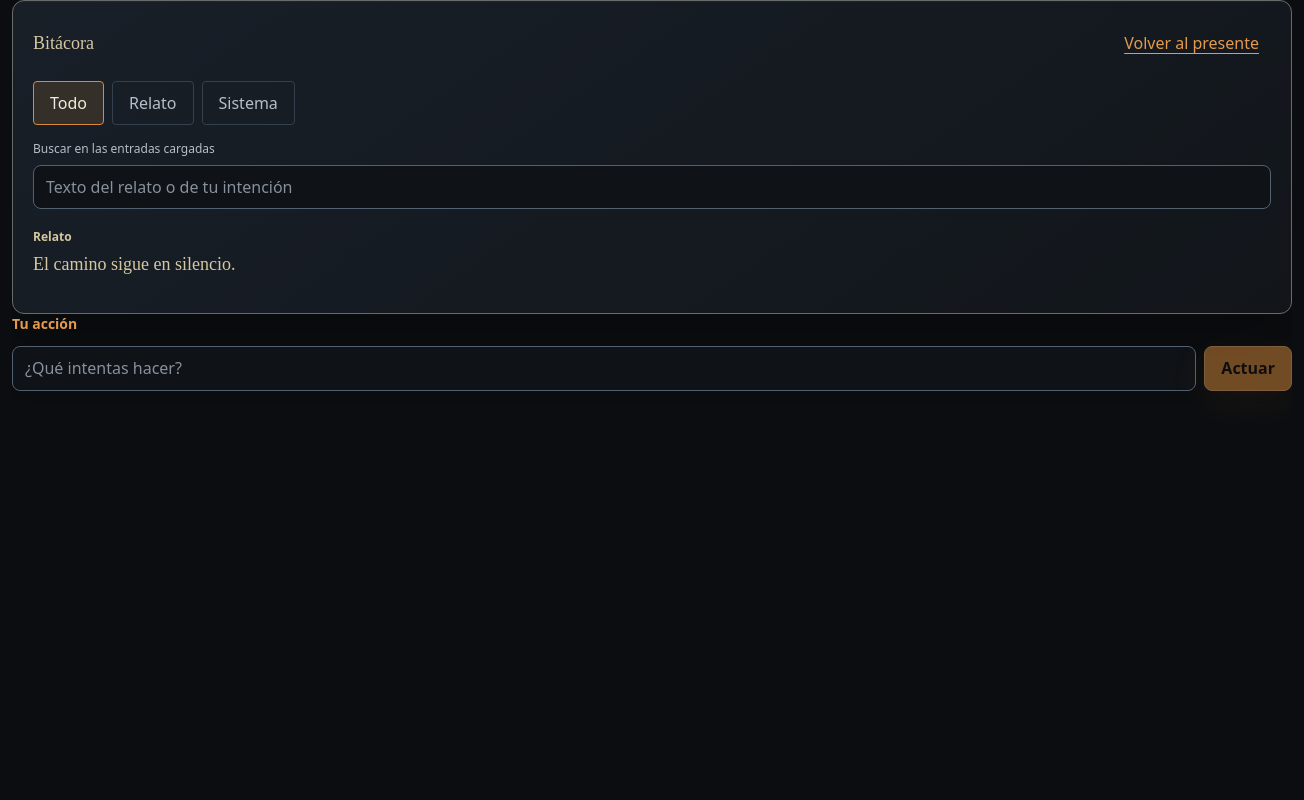
campaign story through the real action stream › does not mistake an old identical narrative for the response to the current action
Step 1. Type "Miro el camino" into the field labelled "Tu acción" → (604, 368), box [12,346,1196,391]
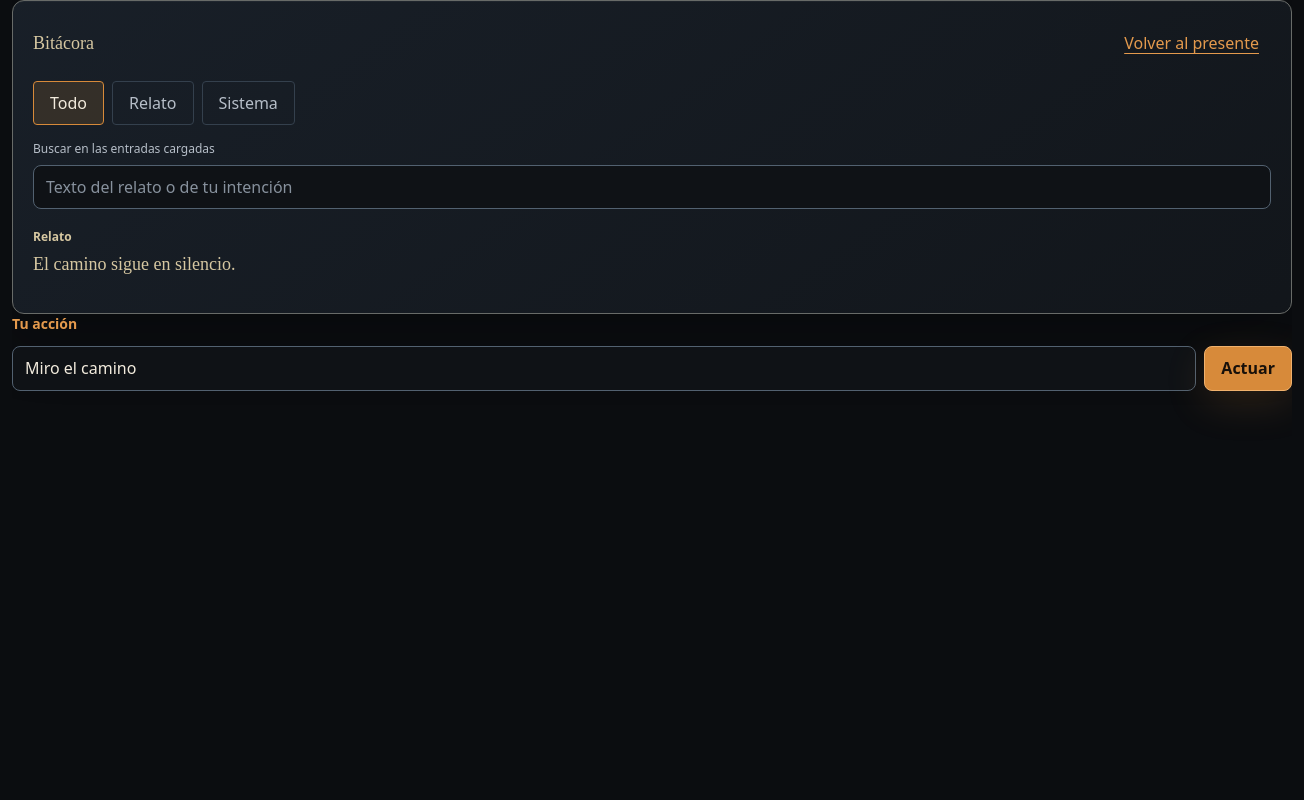
Step 2. Click the button "Actuar" → (1248, 368), box [1204,346,1292,391]
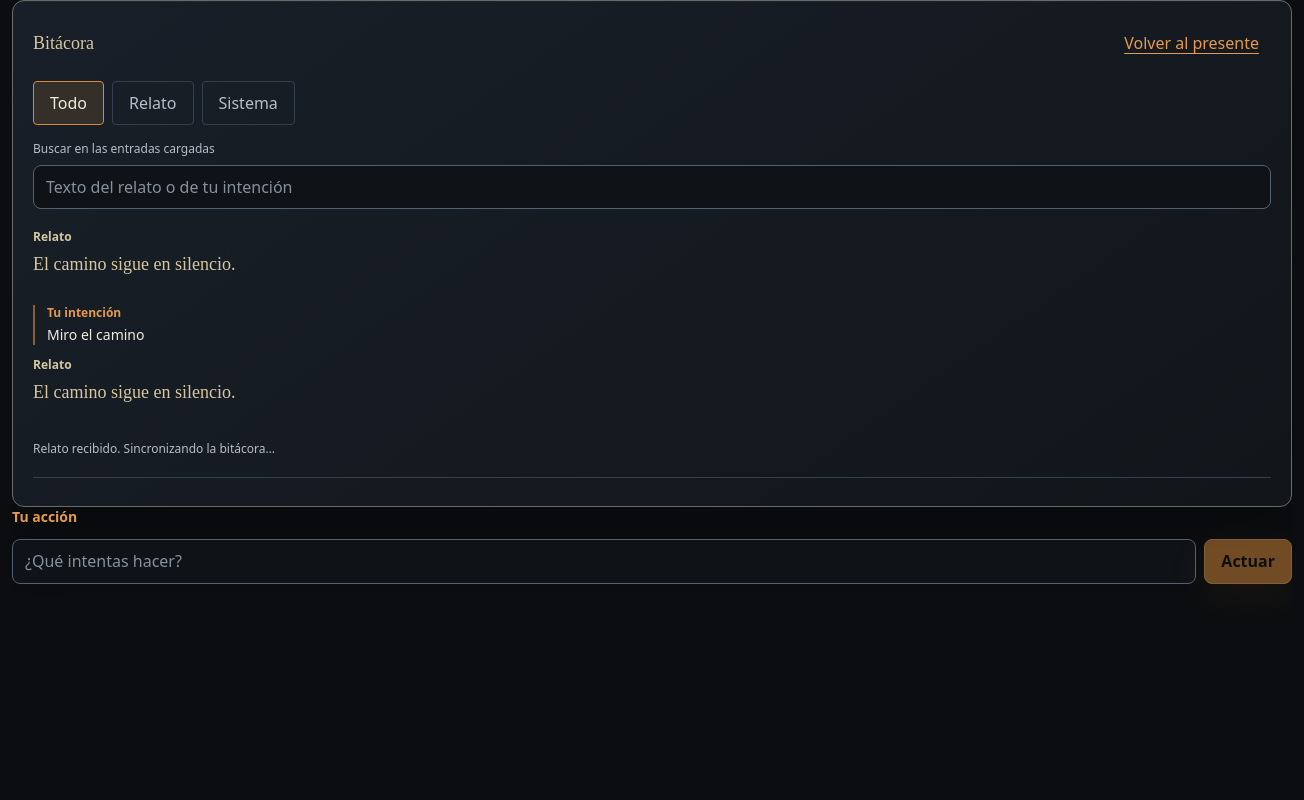
Check: the text "El camino sigue en silencio." is shown 2 times, box [33,254,236,274]; [33,382,236,402]
Check: the text "Relato recibido. Sincronizando la bitácora…" is shown, box [33,440,275,456]
